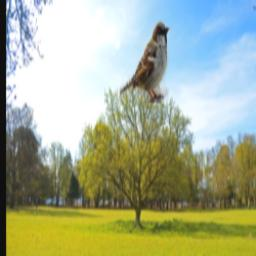Sparrow: (119, 23, 169, 104)
